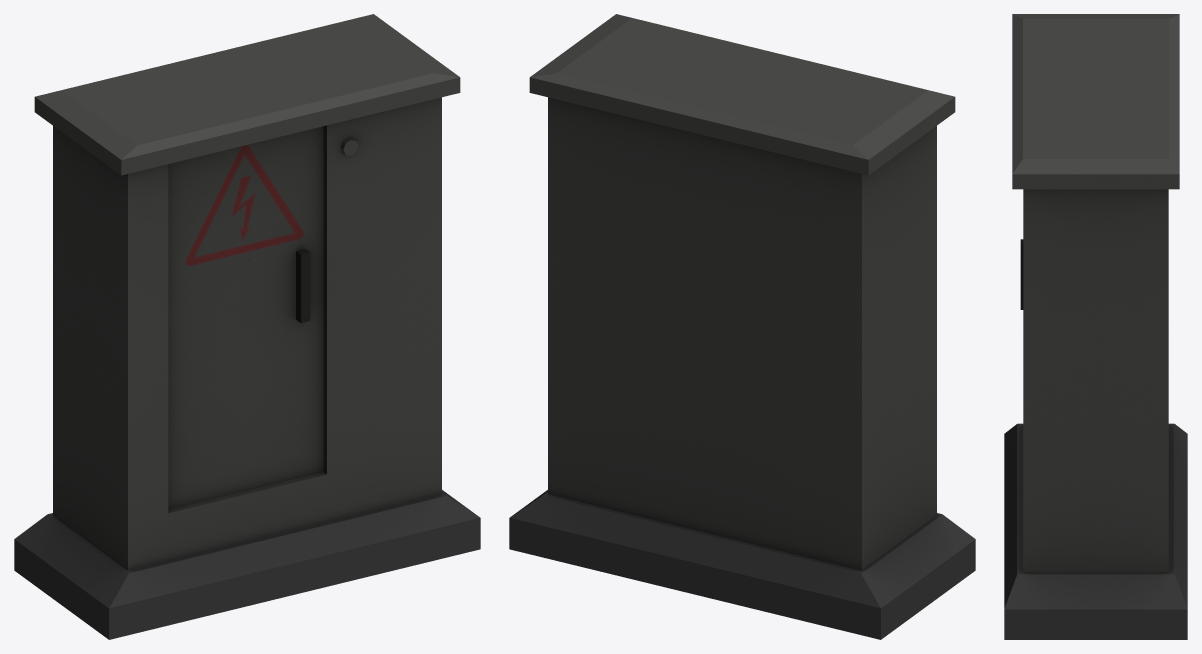
The model's file is Electrical_Box.fbx.
The picture shows the model from 3 angles, left to right: view 1: azimuth 30°, elevation 25°; view 2: azimuth 150°, elevation 25°; view 3: azimuth 270°, elevation 25°; orthographic projection. The views are drawn at different scales.
Parts seen in each view (by area): view 1: Electrical_Box; view 2: Electrical_Box; view 3: Electrical_Box.
Boxes of the visible parts, bbox=[...] form: Electrical_Box: bbox=[14, 14, 480, 639]; Electrical_Box: bbox=[509, 14, 975, 639]; Electrical_Box: bbox=[1004, 14, 1187, 639].
Size of the model in its own units: 21.98 by 27.04 by 9.71.
